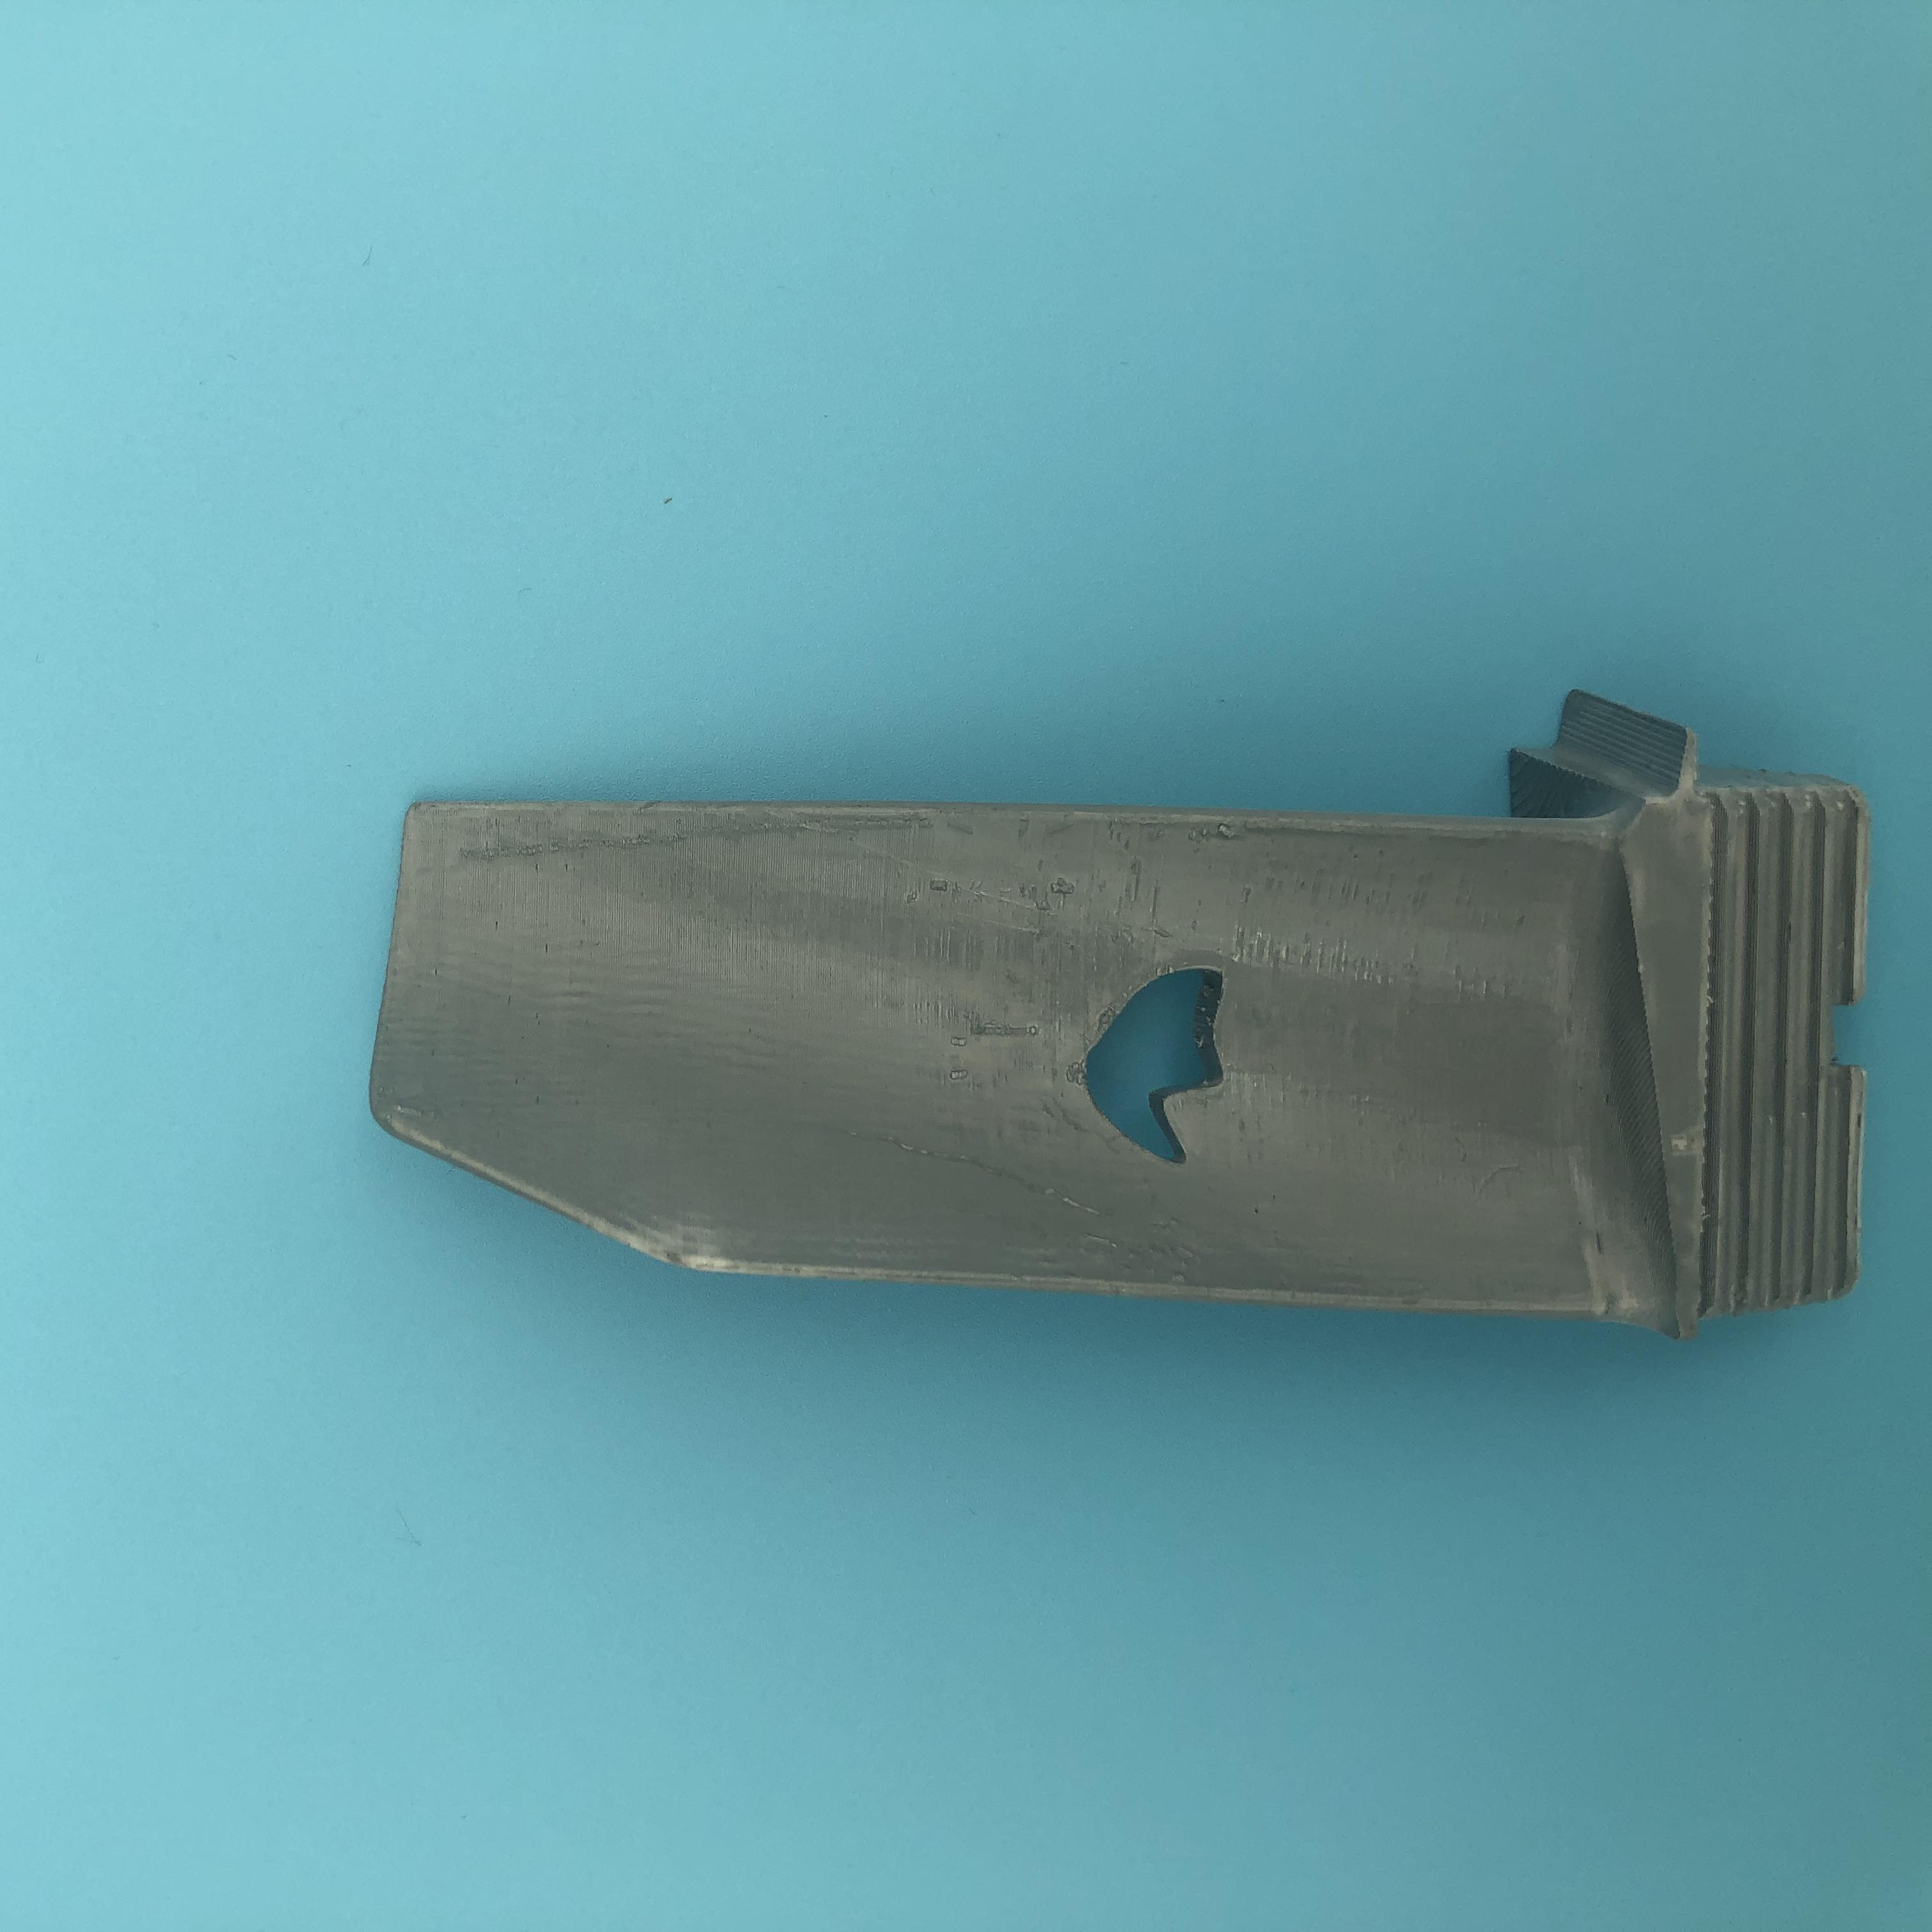breakdown: (1069, 961, 1258, 1166)
